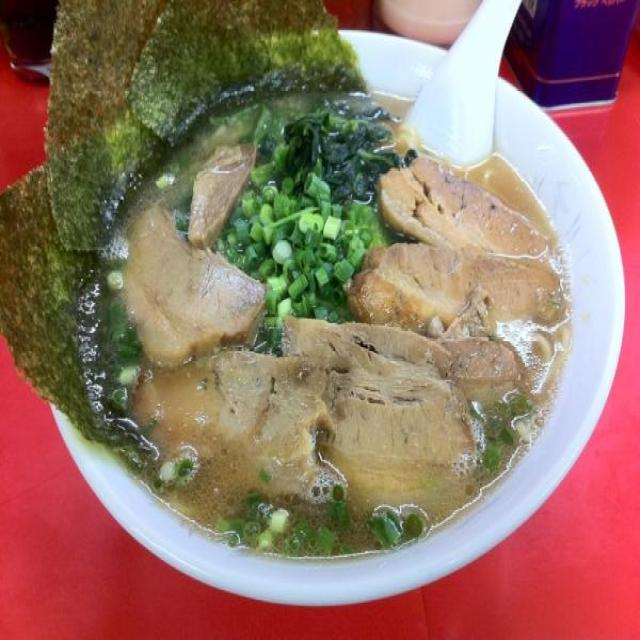面条主食: (54, 30, 625, 600)
